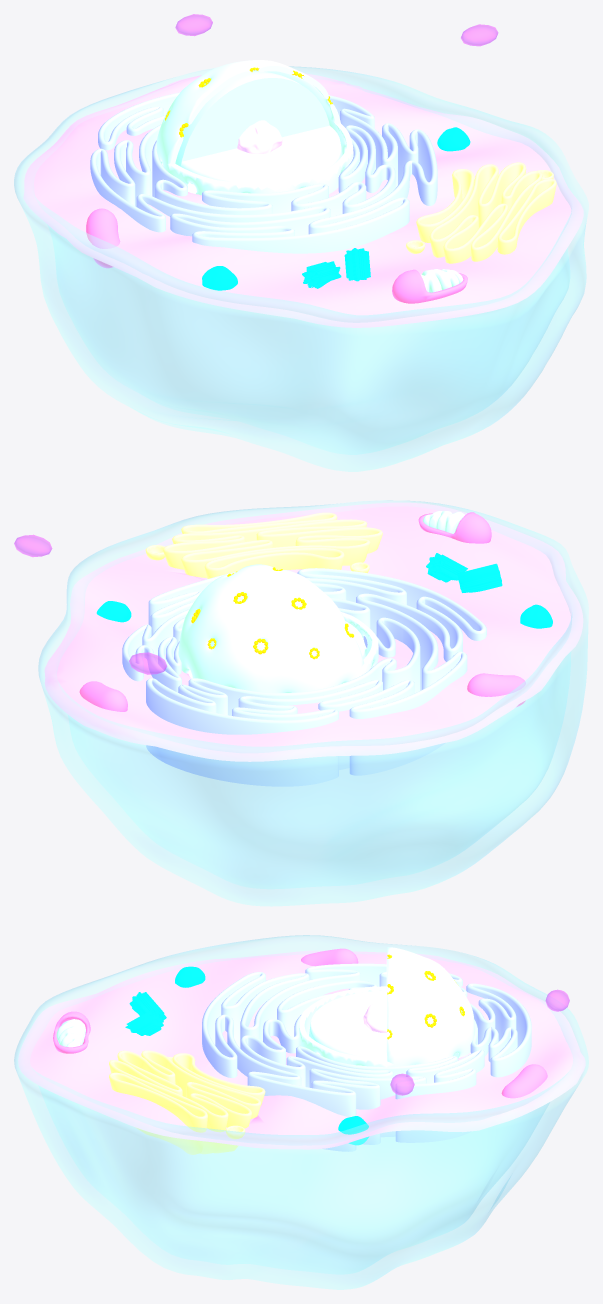
The model's file is heart-cellular-responding-2.glb.
3 views of the same model, one above another, from view 1: azimuth 30°, elevation 25°; view 2: azimuth 150°, elevation 25°; view 3: azimuth 270°, elevation 25° (orthographic). The views are drawn at different scales.
Visible parts, largest first — view 1: Sphere_0, Sphere.001_0, BezierCurve_0, Roundcube_0, BezierCurve.002_0, Icosphere_0, Roundcube.000_0, Sphere.002_0, Roundcube.001_0, Sphere.005_0, AmyloidClump_0, AmyloidClump_1; view 2: Sphere_0, Sphere.001_0, BezierCurve_0, Icosphere_0, BezierCurve.002_0, Sphere.002_0, Roundcube.000_0, Icosphere.002_0, AmyloidClump_1, Sphere.005_0, AmyloidClump_0; view 3: Sphere_0, Sphere.001_0, BezierCurve_0, Icosphere_0, BezierCurve.002_0, Roundcube_0, Sphere.002_0, Roundcube.000_0, Sphere.005_0, Roundcube.001_0.
Part boxes in pixels (x1,y1,x2,y2): Sphere_0: (14,66,588,471); Sphere.001_0: (23,73,583,327); BezierCurve_0: (90,92,437,253); Roundcube_0: (175,71,342,183); BezierCurve.002_0: (406,162,556,263); Icosphere_0: (156,60,353,195); Roundcube.000_0: (202,127,470,290); Sphere.002_0: (86,208,467,303); Roundcube.001_0: (237,120,282,153); Sphere.005_0: (420,269,463,292); AmyloidClump_0: (461,24,498,46); AmyloidClump_1: (175,14,212,35); Sphere_0: (38,500,588,906); Sphere.001_0: (44,502,583,761); BezierCurve_0: (122,568,486,786); Icosphere_0: (178,564,378,692); BezierCurve.002_0: (145,512,382,578); Sphere.002_0: (79,512,525,711); Roundcube.000_0: (96,553,552,628); Icosphere.002_0: (191,567,353,659); AmyloidClump_1: (129,652,166,674); Sphere.005_0: (423,511,464,533); AmyloidClump_0: (14,534,52,556); Sphere_0: (14,935,588,1289); Sphere.001_0: (18,950,585,1149); BezierCurve_0: (202,963,531,1151); Icosphere_0: (299,947,474,1067); BezierCurve.002_0: (109,1050,265,1154); Roundcube_0: (309,959,461,1058); Sphere.002_0: (53,948,547,1098); Roundcube.000_0: (125,966,368,1145); Sphere.005_0: (56,1019,85,1047); Roundcube.001_0: (363,1003,386,1032).
Bounding box in the file's own units: 2.57 × 1.7 × 3.
